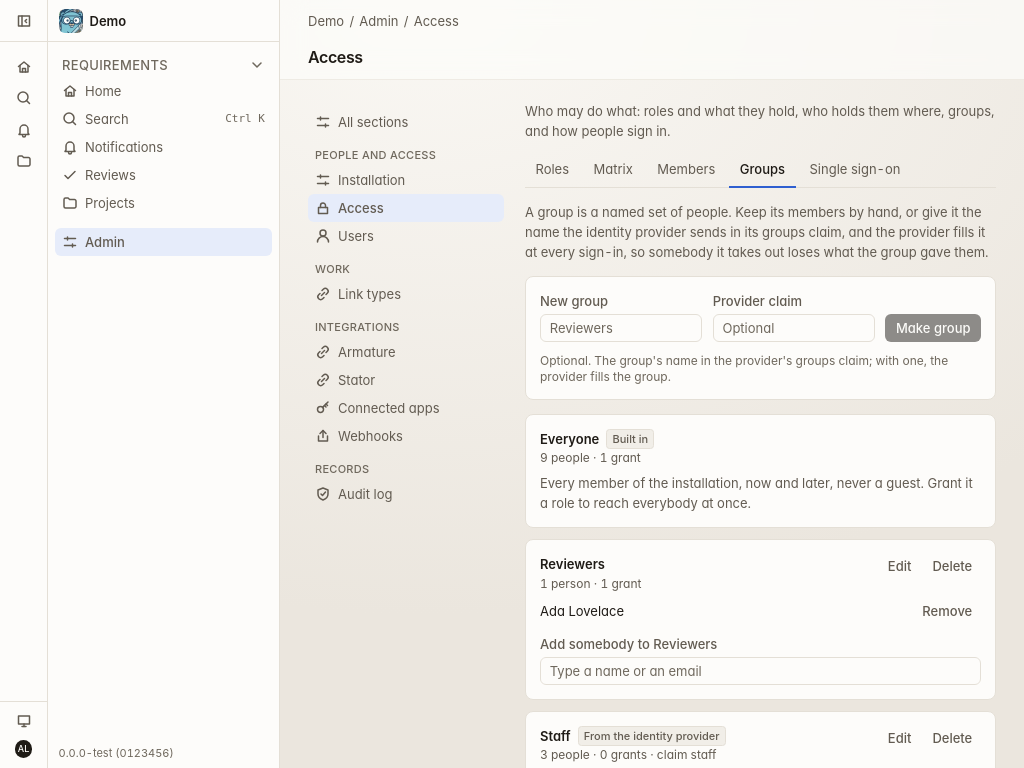
Test: the Groups tab › renames a group
expect the element that starts with "Reviewers" is shown: met, box [525, 539, 996, 700]
Click the button "Edit" in the row of "1 person" at point(900, 566), box [879, 554, 920, 578]
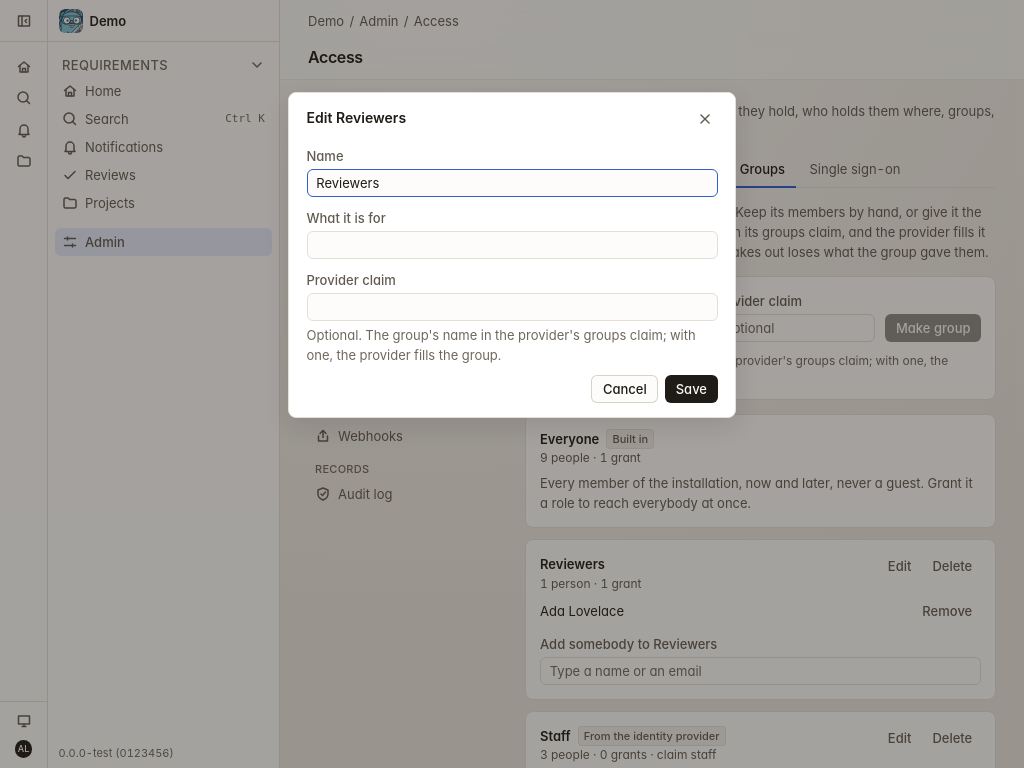
Replace the text in the field labelled "Name" with "Checkers" at point(512, 183), box [306, 169, 718, 197]
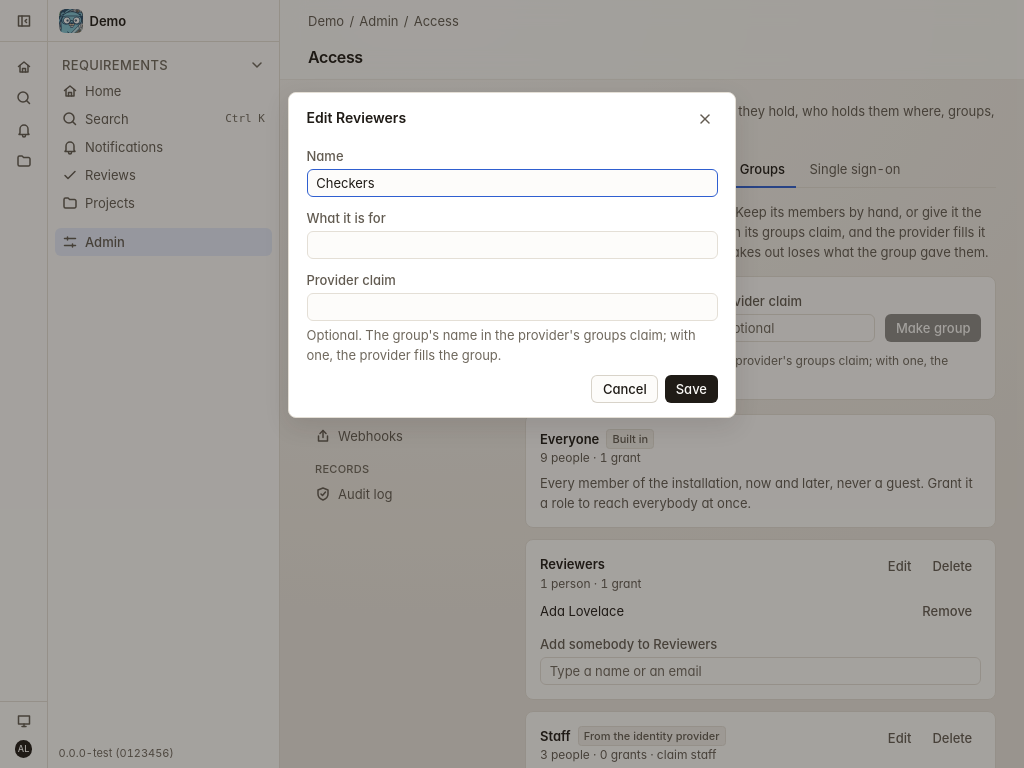
Click the button "Save" at point(691, 389), box [665, 375, 718, 403]
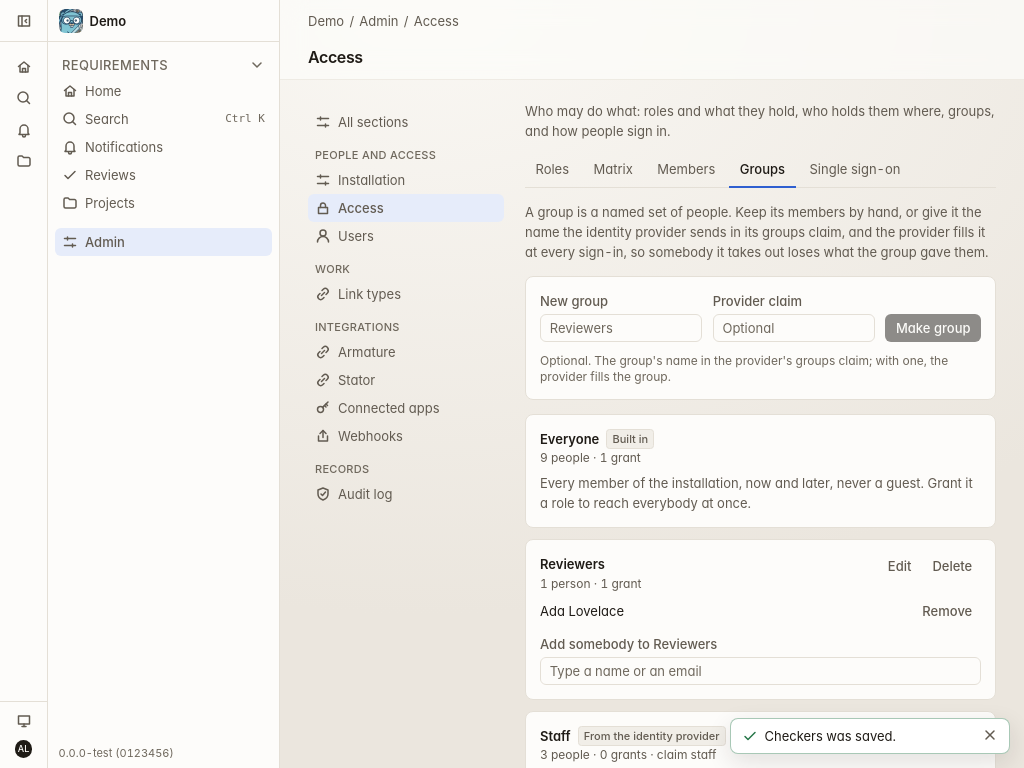
expect the text "Checkers was saved." is shown: met, box [764, 728, 896, 744]
